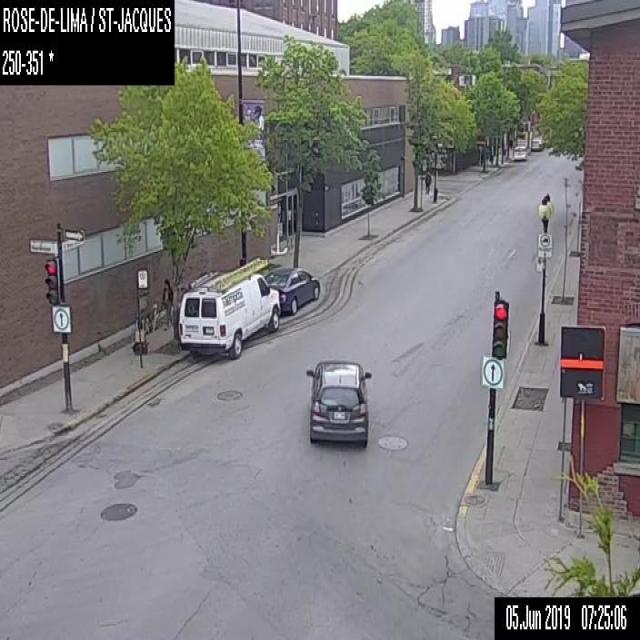pedestrian: (145, 277, 172, 332), (425, 169, 430, 195), (488, 150, 494, 166), (507, 137, 513, 151)
vehicle: (176, 254, 278, 359), (304, 357, 372, 447), (263, 265, 319, 316), (513, 144, 527, 160), (530, 137, 542, 151)
